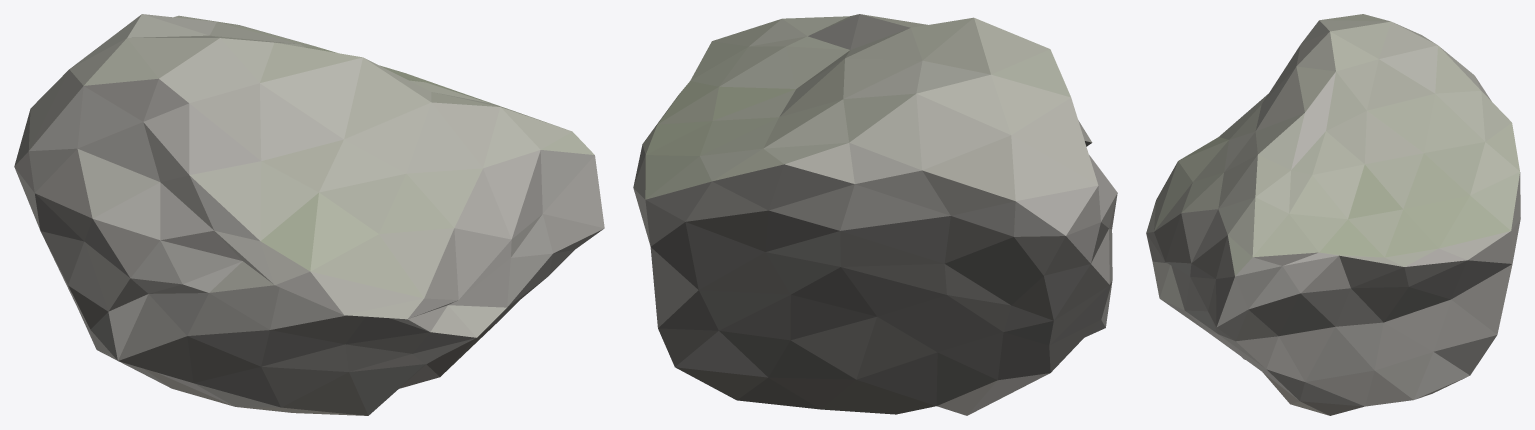
The picture shows the model from 3 angles, left to right: view 1: azimuth 30°, elevation 25°; view 2: azimuth 150°, elevation 25°; view 3: azimuth 270°, elevation 25°; orthographic projection. The views are drawn at different scales.
Visible parts, largest first — view 1: pedra_lowpoly_a; view 2: pedra_lowpoly_a; view 3: pedra_lowpoly_a.
Boxes of the visible parts, <box> form: pedra_lowpoly_a: <box>14,14,604,415</box>; pedra_lowpoly_a: <box>633,14,1117,415</box>; pedra_lowpoly_a: <box>1146,14,1520,415</box>.
Size of the model in its own units: 1.66 by 1.24 by 1.42.
